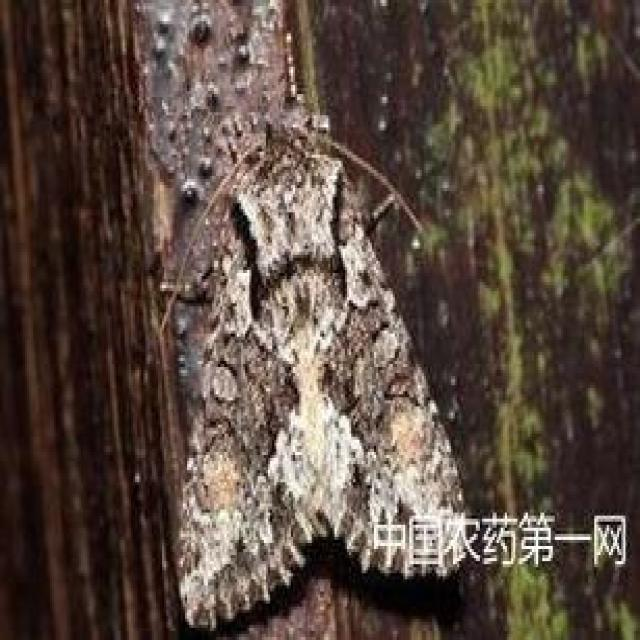BeetArmyWorm-Adult-: (148, 96, 477, 630)
